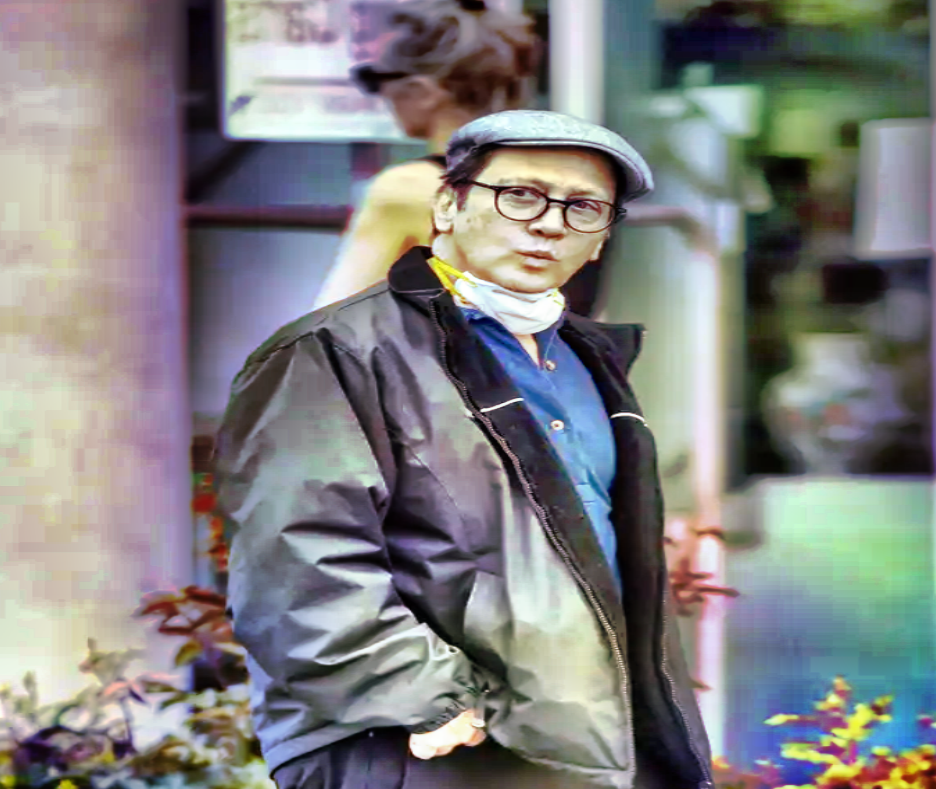mask_weared_incorrect: (406, 104, 655, 339)
